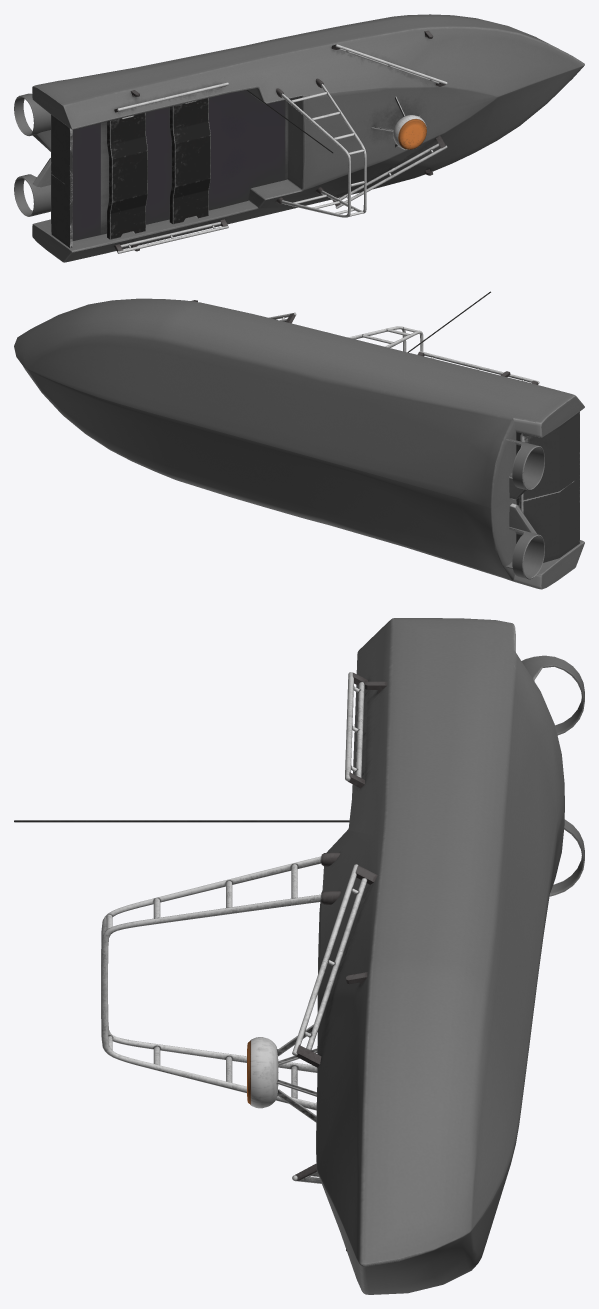
Rendered from usv-boat.glb.
3 renders of one model, top to bottom at view 1: azimuth 30°, elevation 25°; view 2: azimuth 150°, elevation 25°; view 3: azimuth 270°, elevation 25°, orthographic. The views are drawn at different scales.
Visible parts, largest first — view 1: hull; view 2: hull; view 3: hull.
Part boxes in pixels (bbox=[...]): hull: bbox=[14, 14, 584, 262]; hull: bbox=[14, 291, 584, 589]; hull: bbox=[14, 618, 584, 1294].
Bounding box in the file's own units: 122 × 37.1 × 59.42.
Materials: 1 (1 with a texture image).
